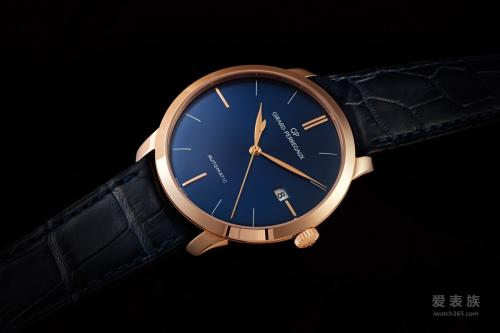watch: (123, 59, 383, 262)
